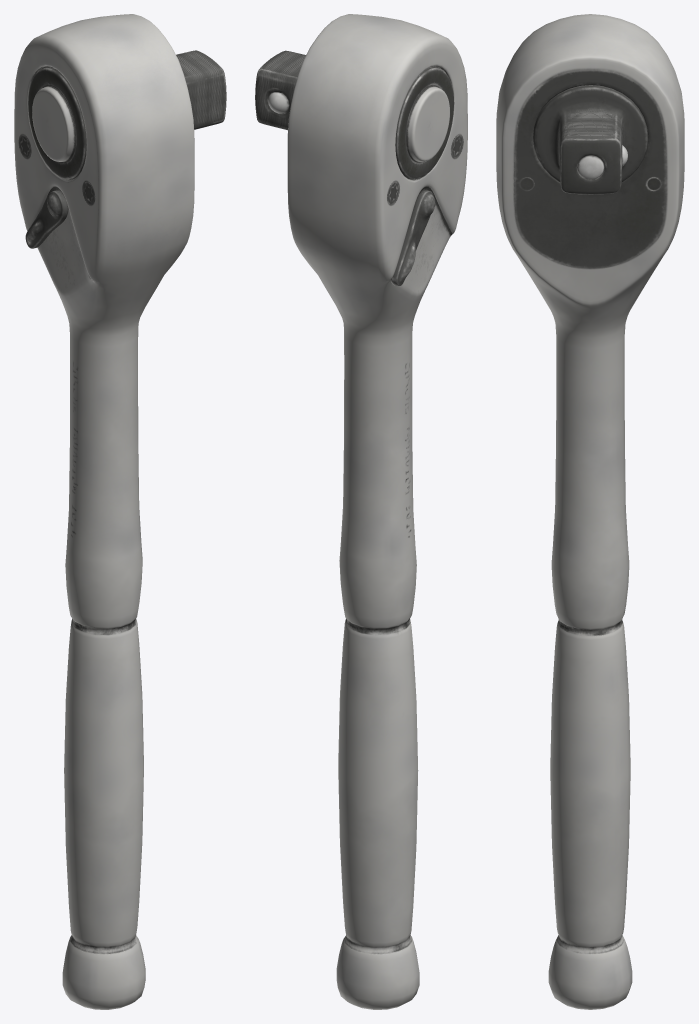
3 views of the same model, side by side, from view 1: azimuth 30°, elevation 25°; view 2: azimuth 150°, elevation 25°; view 3: azimuth 270°, elevation 25° (orthographic).
Visible parts, largest first — view 1: body, head_left, head_right, handle; view 2: body, head_left, head_right, handle; view 3: body, head_left.
Part boxes in pixels (x1=…): body: x1=14, y1=14, x2=194, y2=1009; head_left: x1=176, y1=50, x2=226, y2=129; head_right: x1=32, y1=85, x2=75, y2=162; handle: x1=25, y1=190, x2=67, y2=248; body: x1=287, y1=14, x2=467, y2=1009; head_left: x1=255, y1=50, x2=305, y2=130; head_right: x1=406, y1=85, x2=449, y2=162; handle: x1=391, y1=190, x2=435, y2=285; body: x1=496, y1=14, x2=684, y2=1009; head_left: x1=533, y1=85, x2=648, y2=194.
Bounding box in the file's own units: 0.0441 × 0.2462 × 0.0434.
1 material, 1 textured.
